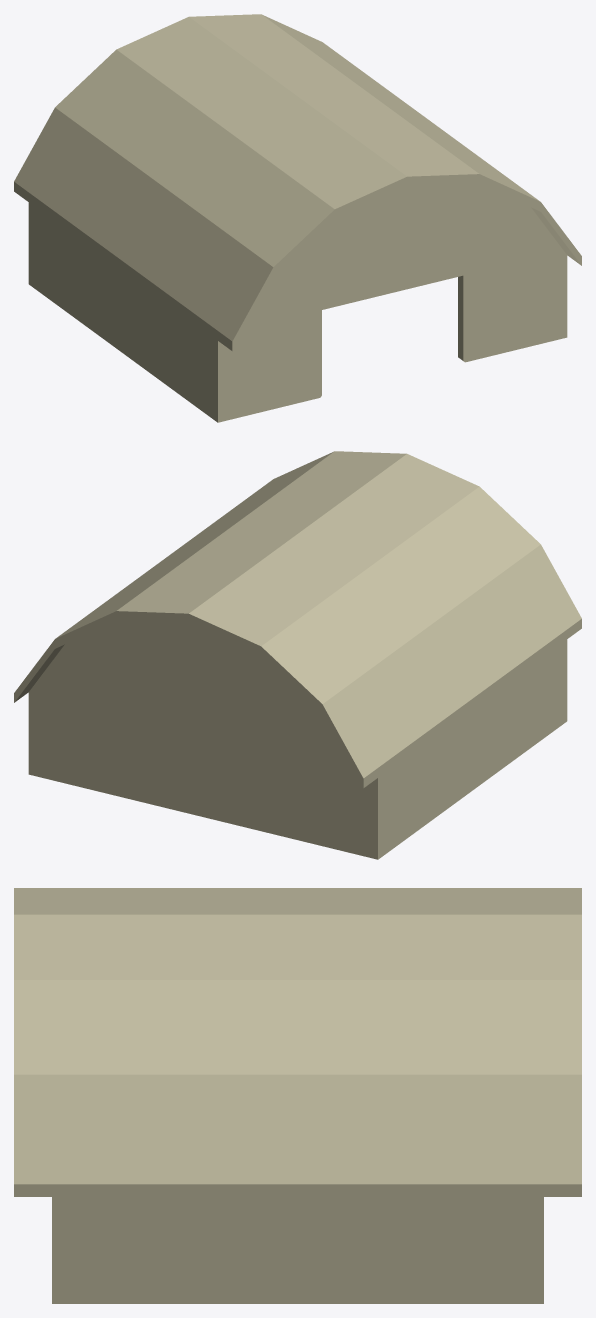
Rendered from hangar.glb.
3 views of the same model, one above another, from view 1: azimuth 30°, elevation 25°; view 2: azimuth 150°, elevation 25°; view 3: azimuth 270°, elevation 25° (orthographic). The views are drawn at different scales.
Parts seen in each view (by area): view 1: Cube.001; view 2: Cube.001; view 3: Cube.001.
Boxes of the visible parts, left/top/right/bottom form: Cube.001: left=14, top=14, right=581, bottom=422; Cube.001: left=14, top=451, right=581, bottom=859; Cube.001: left=14, top=888, right=581, bottom=1303.
Bounding box in the file's own units: 1.85 × 1.08 × 2.
